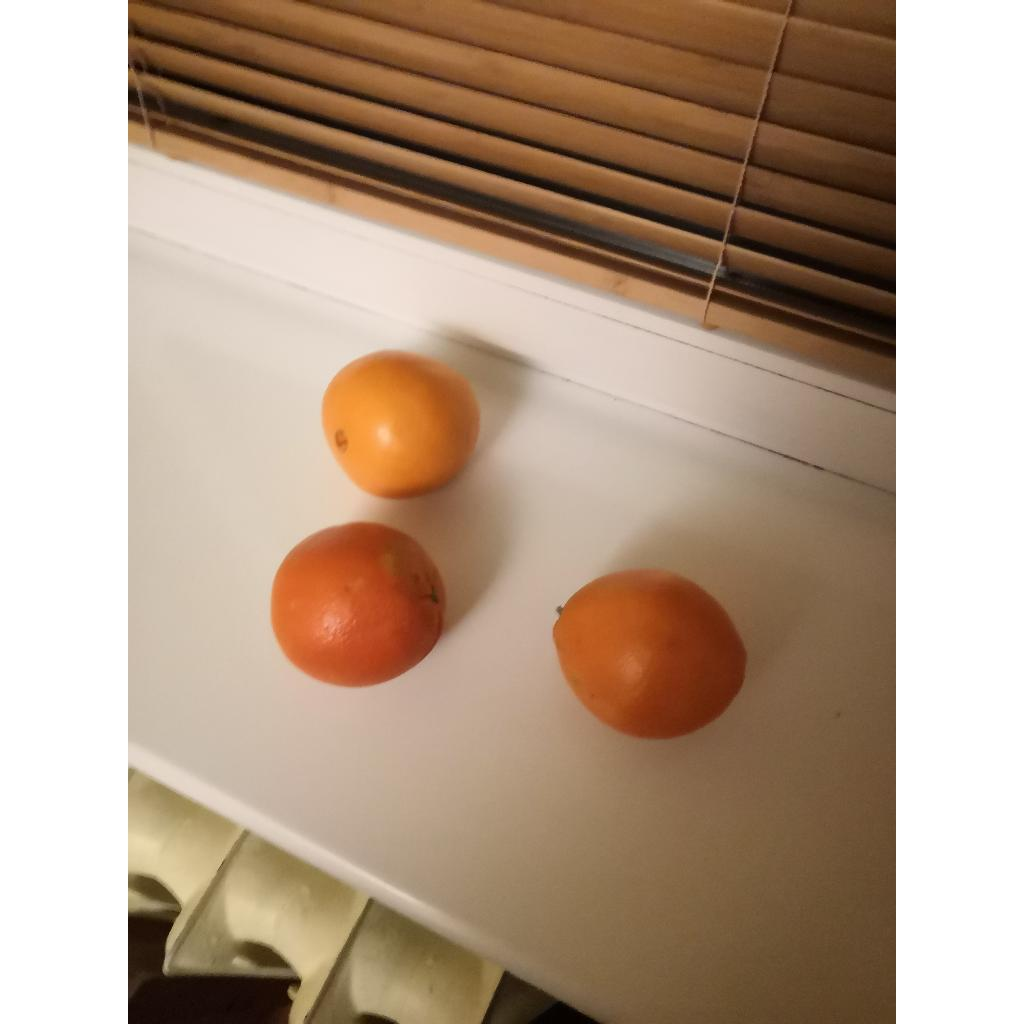orange: (552, 568, 746, 738), (272, 522, 446, 686), (322, 350, 480, 498)
